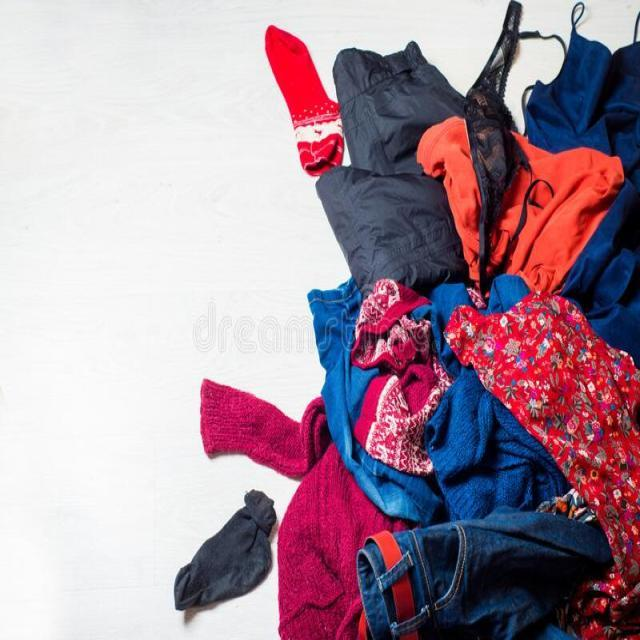clothes: (172, 488, 289, 618)
